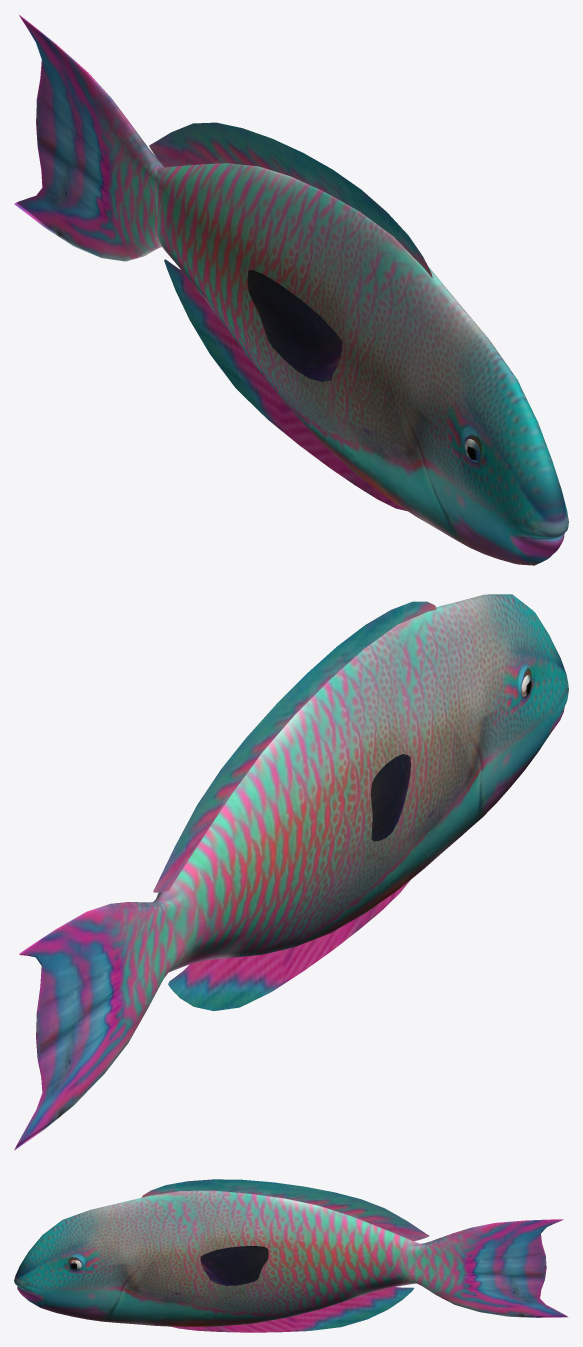
File: fish1.fbx
3 views of the same model, one above another, from view 1: azimuth 30°, elevation 25°; view 2: azimuth 150°, elevation 25°; view 3: azimuth 270°, elevation 25° (orthographic). The views are drawn at different scales.
Visible parts, largest first — view 1: fish01_bluebarred_mesh; view 2: fish01_bluebarred_mesh; view 3: fish01_bluebarred_mesh.
Part boxes in pixels (left/top/right/bottom): fish01_bluebarred_mesh: left=14, top=15, right=568, bottom=565; fish01_bluebarred_mesh: left=14, top=594, right=568, bottom=1150; fish01_bluebarred_mesh: left=14, top=1179, right=568, bottom=1332.
Bounding box in the file's own units: 5.26 × 12.27 × 40.26.
